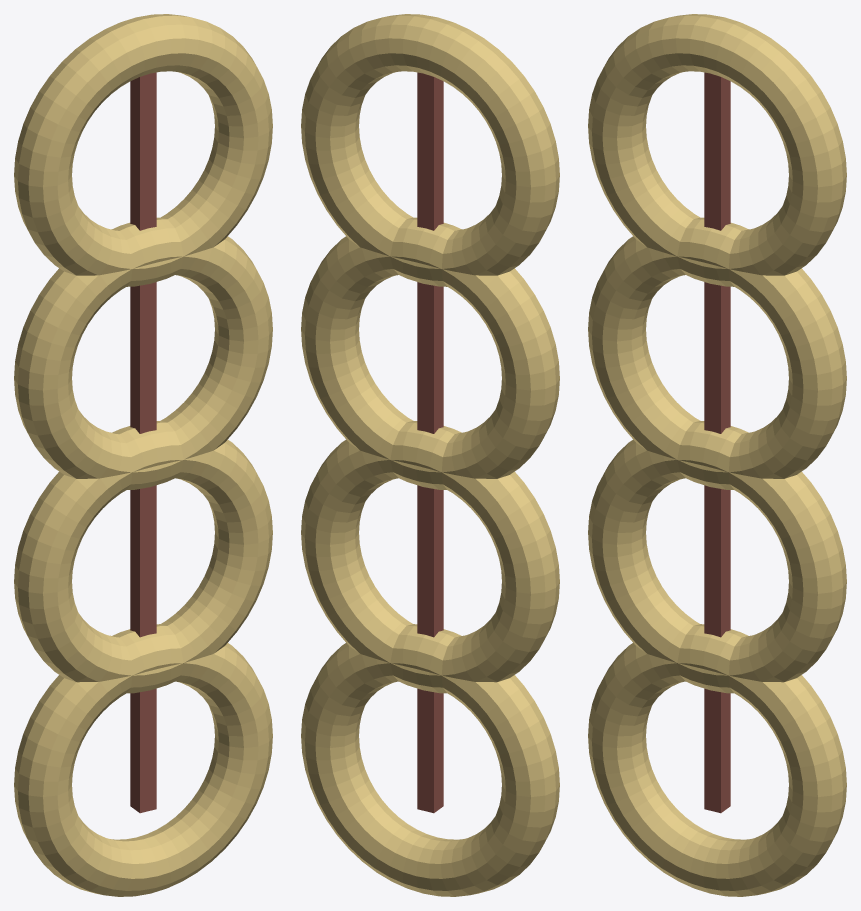
File: jiangshi_coins.glb
The picture shows the model from 3 angles, left to right: view 1: azimuth 30°, elevation 25°; view 2: azimuth 150°, elevation 25°; view 3: azimuth 330°, elevation 25°; orthographic projection.
Visible parts, largest first — view 1: jiangshi_coins; view 2: jiangshi_coins; view 3: jiangshi_coins.
Boxes of the visible parts, <box> form: jiangshi_coins: <box>14,14,272,896</box>; jiangshi_coins: <box>301,14,559,896</box>; jiangshi_coins: <box>588,14,846,896</box>.
Size of the model in its own units: 0.105 by 0.3486 by 0.021.
